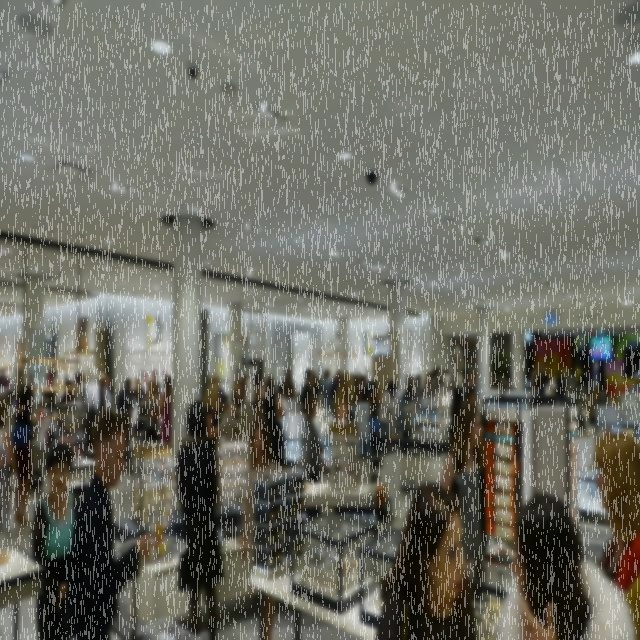pessoa: (62, 405, 160, 640), (496, 493, 636, 639), (373, 478, 479, 640), (174, 397, 228, 639), (31, 440, 81, 640), (240, 415, 282, 640), (441, 402, 486, 582), (592, 431, 640, 595), (10, 383, 35, 529), (300, 394, 328, 520), (332, 370, 357, 484), (261, 373, 286, 471), (115, 376, 135, 466), (81, 364, 100, 456), (0, 390, 11, 535), (202, 382, 222, 453), (463, 385, 487, 441), (56, 378, 76, 440), (398, 382, 414, 452), (378, 379, 397, 436), (229, 377, 247, 436), (158, 374, 172, 444), (146, 377, 160, 444), (367, 380, 382, 430), (300, 368, 314, 421), (212, 372, 230, 410), (132, 405, 148, 445), (319, 368, 334, 410), (98, 374, 115, 410), (132, 375, 146, 418), (452, 341, 463, 392), (251, 383, 265, 421), (146, 369, 162, 400), (240, 365, 254, 398), (352, 374, 361, 420), (405, 373, 423, 396), (250, 372, 262, 406), (331, 369, 342, 404), (390, 377, 400, 413), (310, 365, 326, 387), (433, 365, 444, 394), (74, 372, 84, 402), (286, 385, 296, 413), (468, 369, 480, 392), (286, 377, 296, 402), (424, 368, 436, 387), (360, 375, 368, 403), (584, 366, 592, 394), (0, 367, 10, 389), (530, 374, 536, 409), (310, 380, 320, 400), (554, 371, 562, 395), (283, 368, 293, 387), (276, 381, 286, 400), (442, 368, 452, 387), (462, 364, 468, 394), (532, 376, 540, 396), (558, 364, 566, 383), (578, 368, 586, 386), (532, 366, 546, 376), (281, 362, 286, 384), (362, 370, 368, 388), (357, 366, 361, 389), (424, 377, 431, 388)
